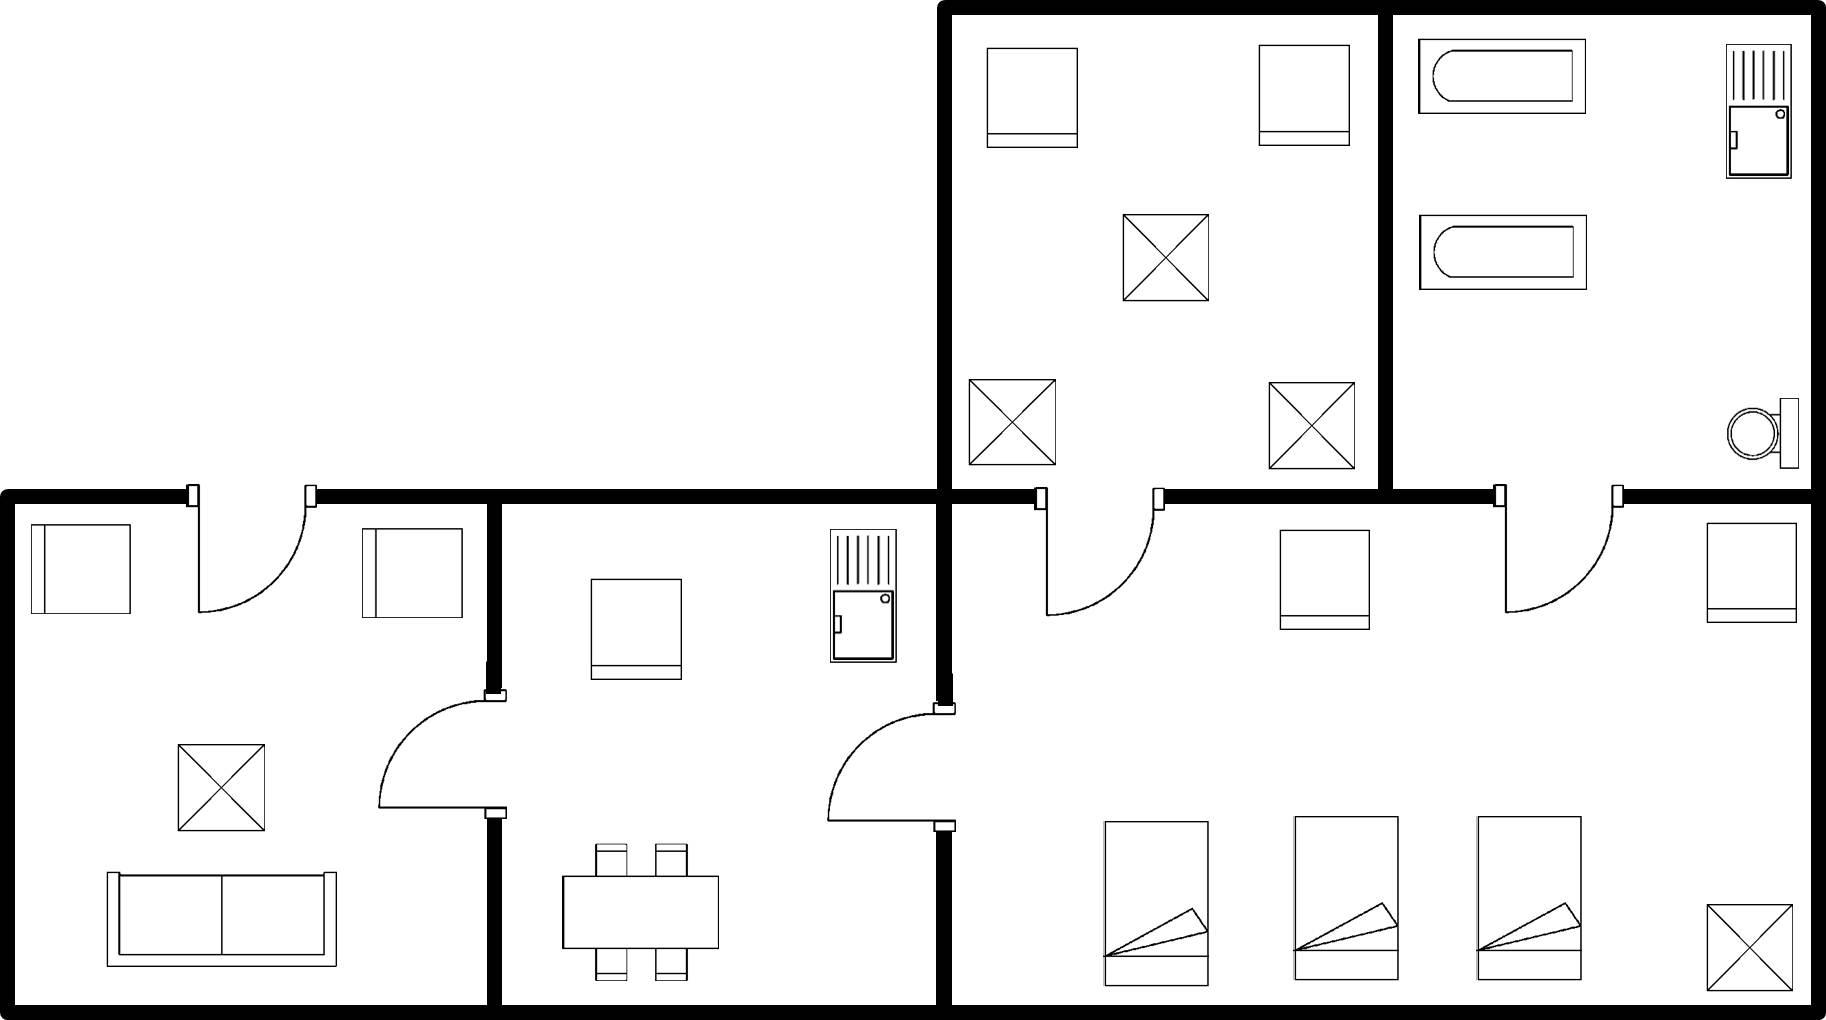bed: (1095, 810, 1225, 991), (1465, 805, 1594, 987), (1282, 807, 1407, 989)
dining_table: (549, 832, 729, 990)
sink: (819, 516, 903, 672), (1717, 34, 1798, 189)
sofa: (94, 859, 347, 979)
toilet: (1717, 385, 1803, 475)
tub: (1406, 202, 1599, 299), (1411, 28, 1596, 125)
